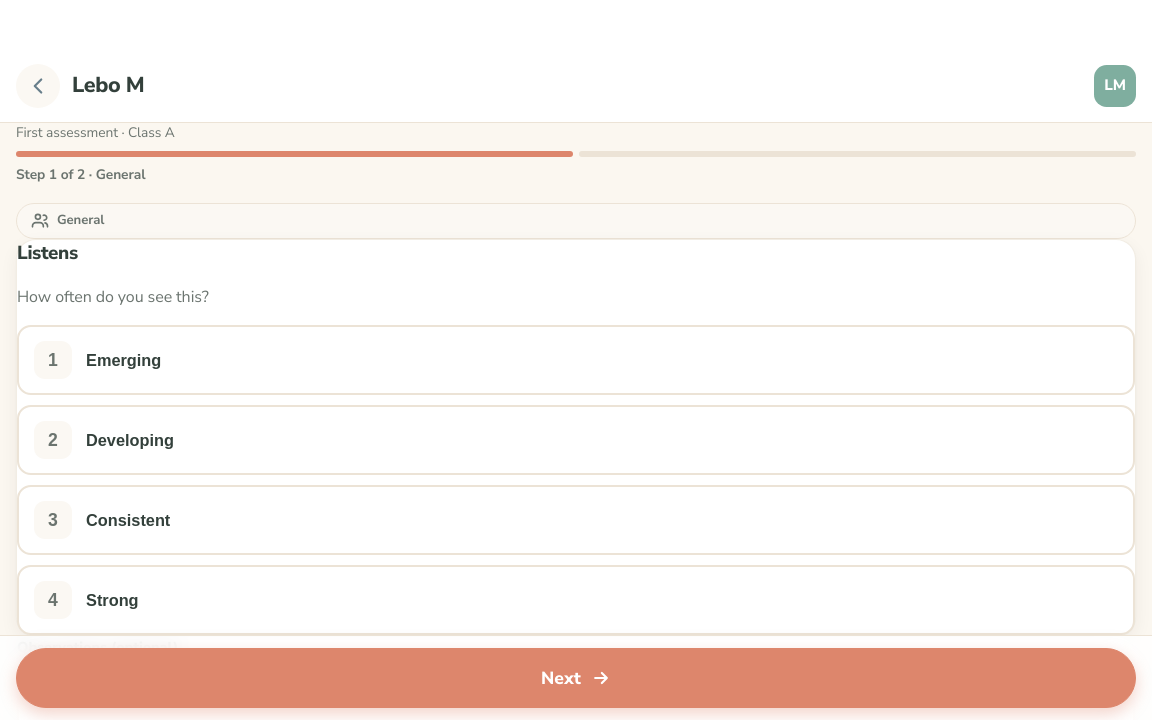
Test: AssessmentFlow › blocks advancing until the current area is fully scored
The width and height of the screenshot is (1152, 720).
// Try to advance without scoring — gated, error shown, no submit.
Click the button "Next" at (576, 678), box x1=16 y1=648 x2=1136 y2=708
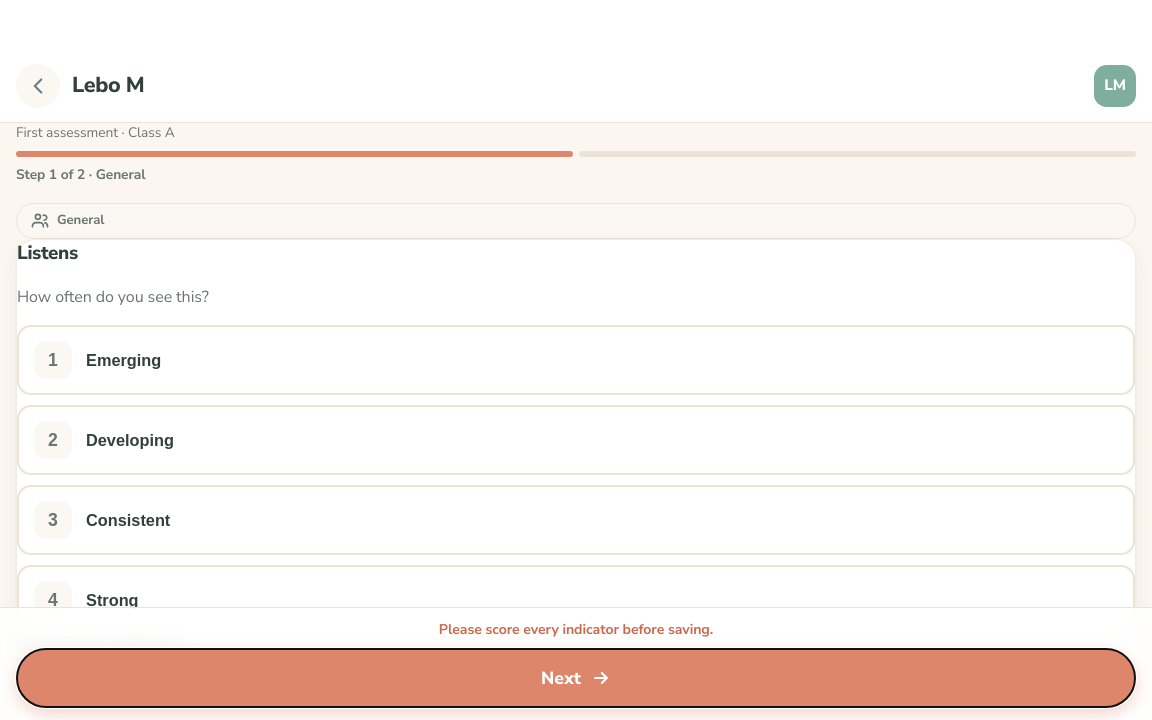
Expected: the text "Please score every indicator before saving." is shown, x1=439 y1=620 x2=713 y2=639
